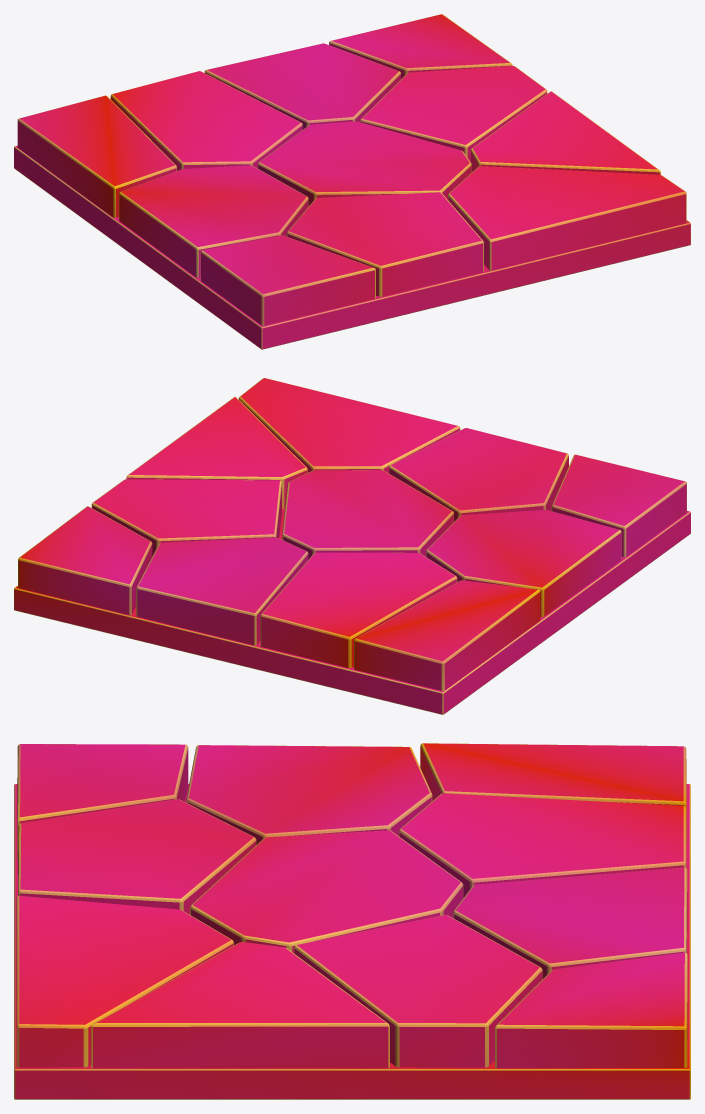
The model's file is SM_StoneTile_B.fbx.
The picture shows the model from 3 angles, top to bottom: view 1: azimuth 30°, elevation 25°; view 2: azimuth 150°, elevation 25°; view 3: azimuth 270°, elevation 25°; orthographic projection. The views are drawn at different scales.
Parts seen in each view (by area): view 1: SM_StoneTile_B; view 2: SM_StoneTile_B; view 3: SM_StoneTile_B.
Part boxes in pixels (box(x1,y1,x2,y2)): SM_StoneTile_B: box(14, 14, 690, 349); SM_StoneTile_B: box(14, 378, 690, 714); SM_StoneTile_B: box(14, 743, 690, 1099).
Size of what is drawn, in the model's own units: 200 by 200 by 24.4.
